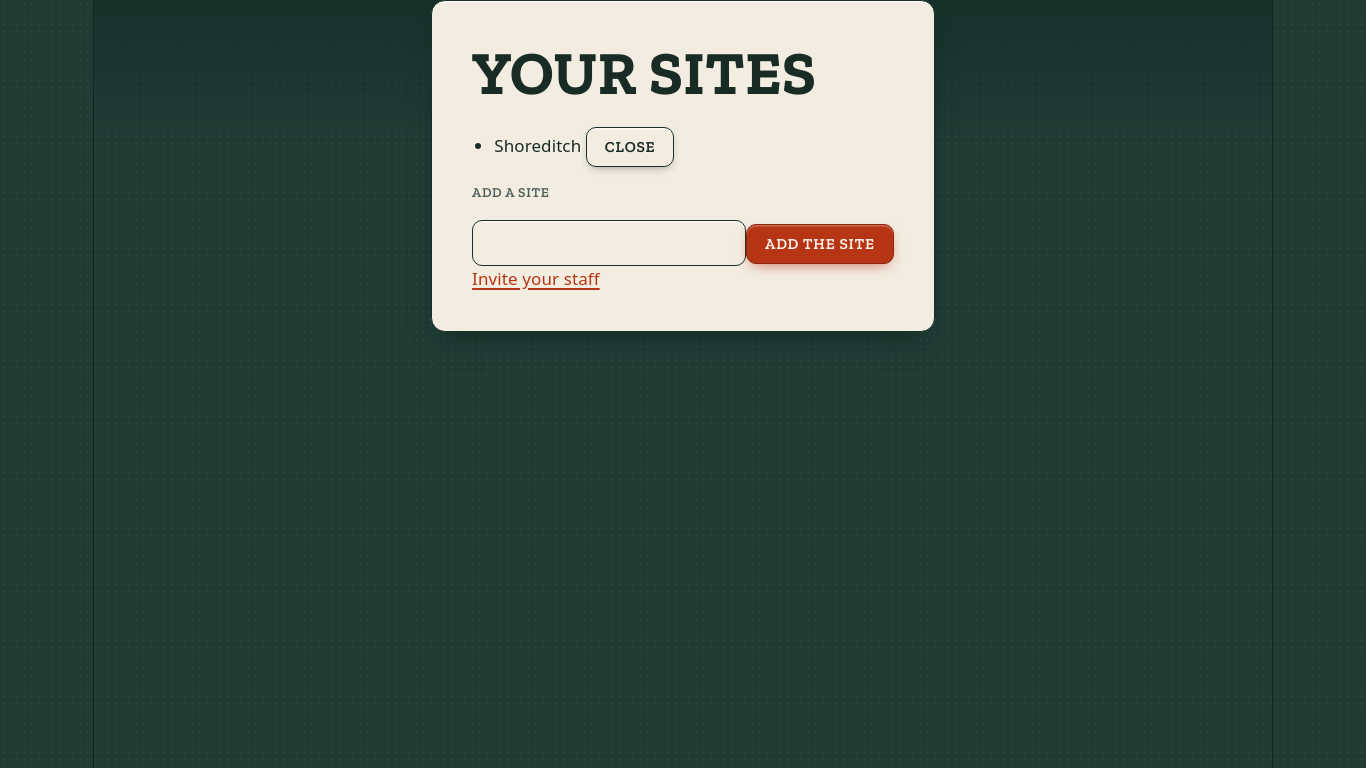
Scenario: the sites page › names what closing costs before it closes anything
Expected: the list item "Shoreditch" is shown, [494, 134, 581, 157]
Step 1. Click the button "Close" → (630, 147), box [586, 127, 674, 167]
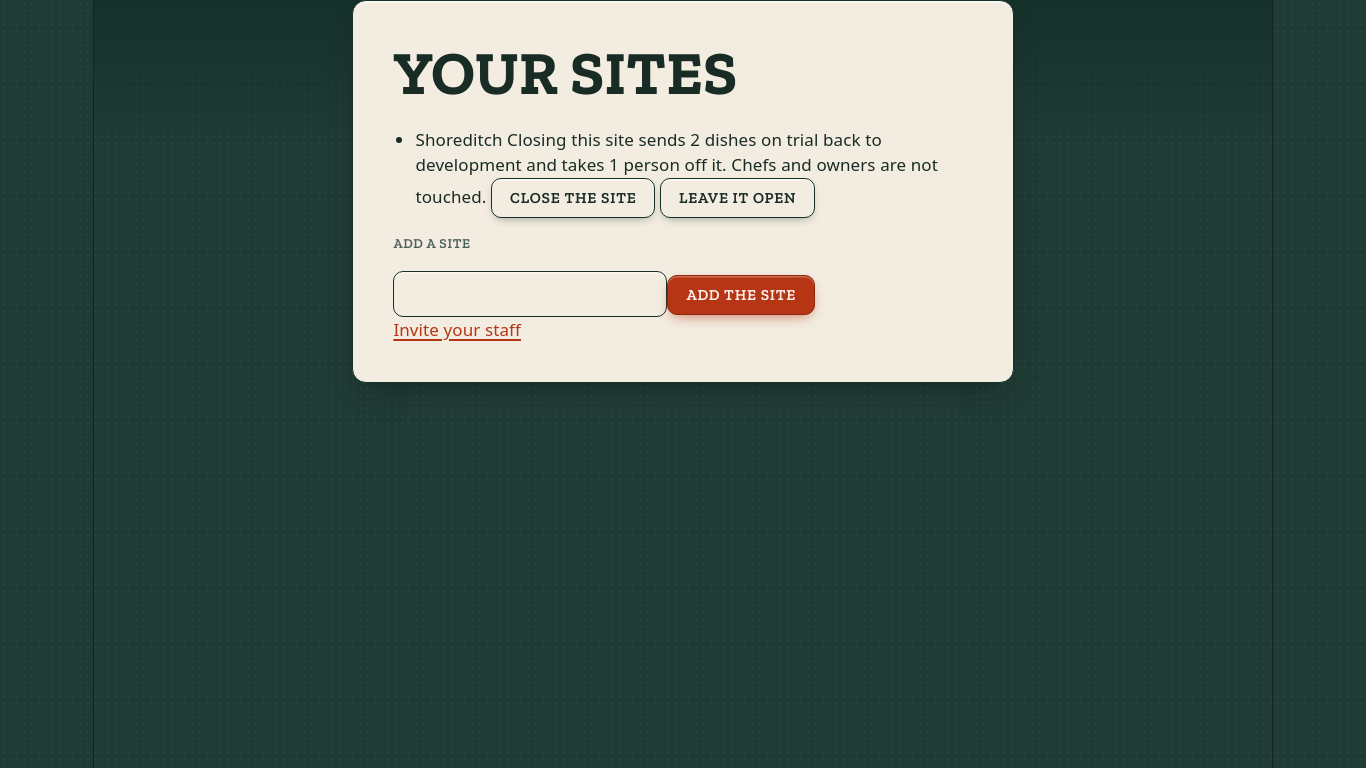
Expected: the text "2 dishes on trial" is shown, [690, 128, 818, 151]
Expected: the text "1 person" is shown, [609, 153, 680, 176]
